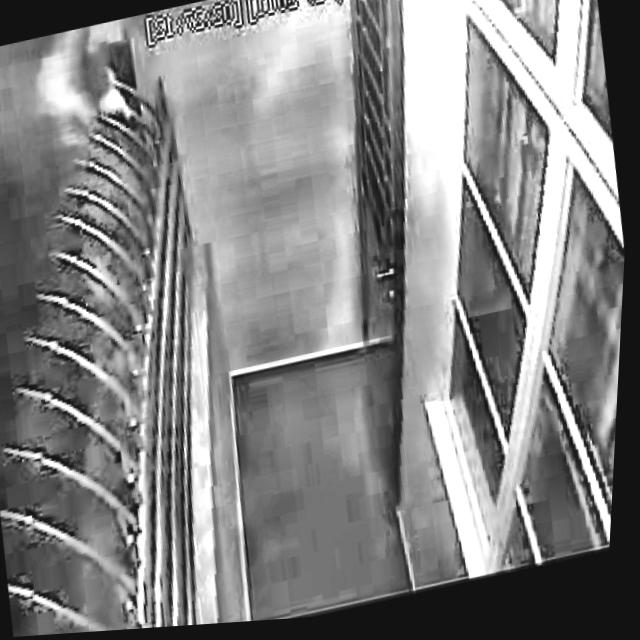burglary: (7, 11, 187, 201)
